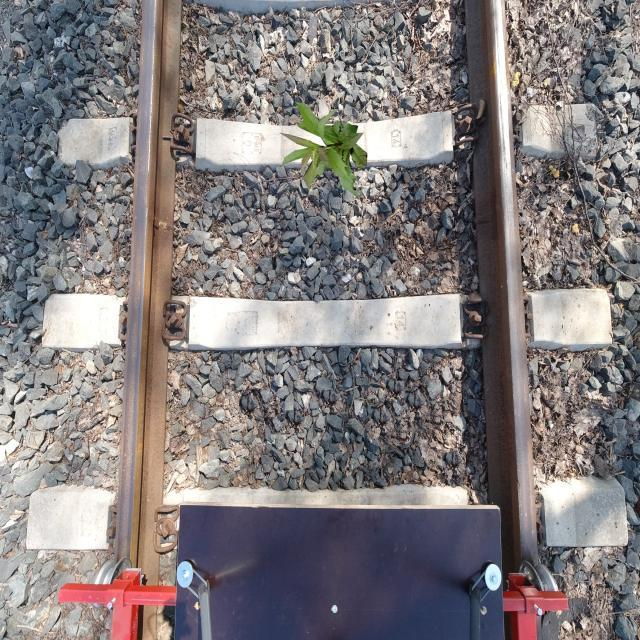Plant: (279, 101, 368, 198)
